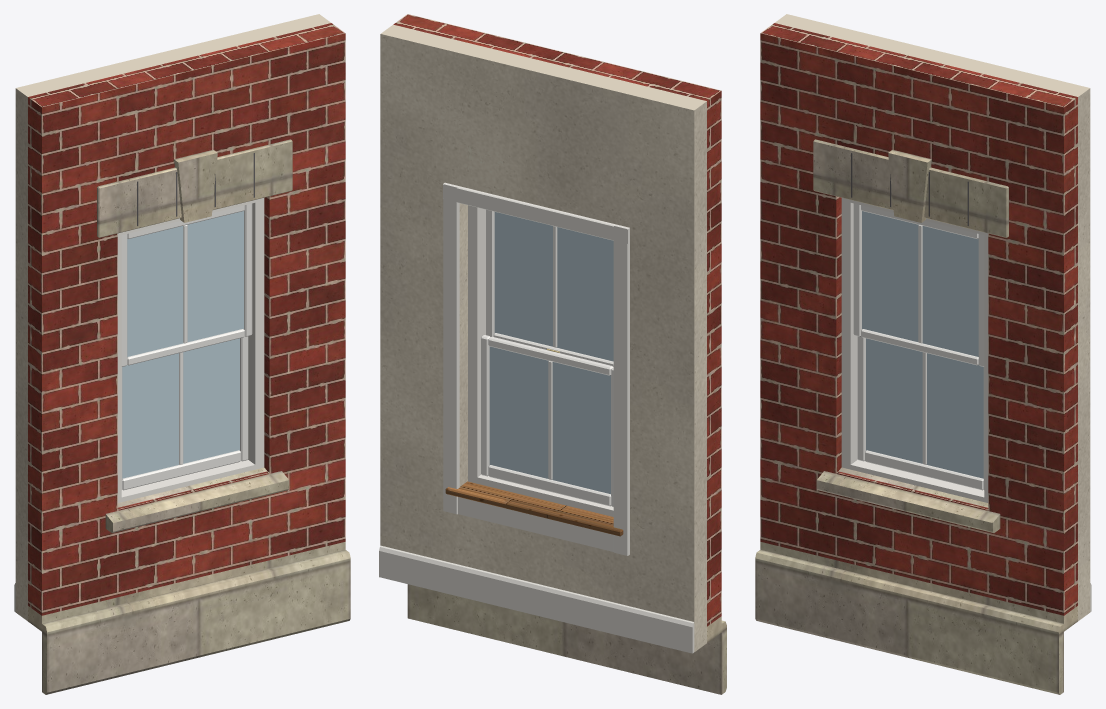
Rendered from w1_win.glb.
3 renders of one model, left to right at view 1: azimuth 30°, elevation 25°; view 2: azimuth 150°, elevation 25°; view 3: azimuth 330°, elevation 25°, orthographic. The views are drawn at different scales.
Visible parts, largest first — view 1: w1_win_brick, w1_win_stone_t, w1_win_glass, w1_win_plaster, w1_win_sash, w1_win_frame; view 2: w1_win_plaster, w1_win_glass, w1_win_trim, w1_win_brick, w1_win_stone_t, w1_win_sash, w1_win_frame, w1_win_oak; view 3: w1_win_brick, w1_win_stone_t, w1_win_glass, w1_win_plaster, w1_win_sash, w1_win_frame.
Part boxes in pixels (left/top/right/bottom): w1_win_brick: left=28, top=23, right=345, bottom=615; w1_win_stone_t: left=28, top=139, right=350, bottom=694; w1_win_glass: left=122, top=211, right=243, bottom=478; w1_win_plaster: left=15, top=14, right=330, bottom=621; w1_win_sash: left=121, top=203, right=252, bottom=490; w1_win_frame: left=117, top=198, right=264, bottom=502; w1_win_plaster: left=380, top=24, right=706, bottom=651; w1_win_glass: left=489, top=212, right=613, bottom=494; w1_win_trim: left=379, top=182, right=694, bottom=653; w1_win_brick: left=393, top=14, right=721, bottom=626; w1_win_stone_t: left=407, top=584, right=726, bottom=694; w1_win_sash: left=481, top=209, right=613, bottom=506; w1_win_frame: left=468, top=205, right=613, bottom=516; w1_win_oak: left=445, top=481, right=623, bottom=536; w1_win_brick: left=760, top=23, right=1077, bottom=615; w1_win_stone_t: left=755, top=139, right=1077, bottom=694; w1_win_glass: left=862, top=211, right=983, bottom=478; w1_win_plaster: left=775, top=14, right=1090, bottom=621; w1_win_sash: left=853, top=203, right=984, bottom=490; w1_win_frame: left=841, top=198, right=988, bottom=502.
Bounding box in the file's own units: 2 × 3.68 × 0.435.
10 materials, 4 textured.
